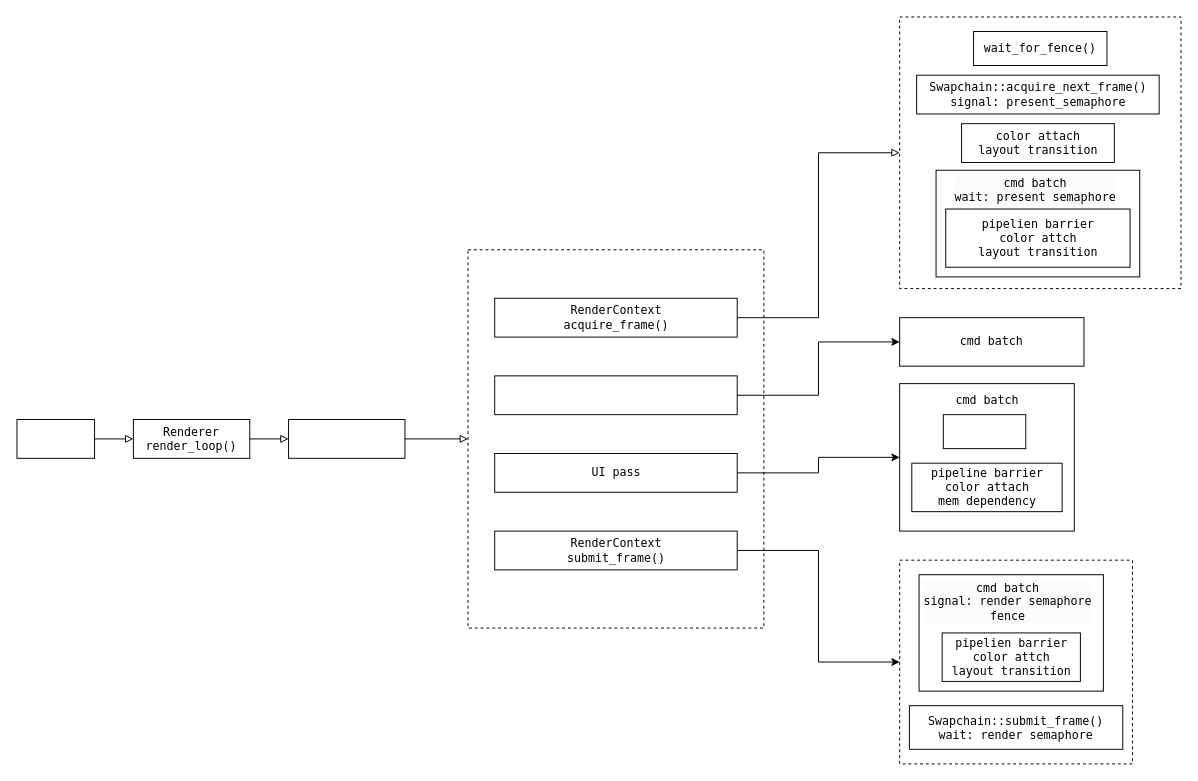
Some shapes in this 1198 by 781 pixel diagram are drawn without their labels. The shapes that lost their labels are listed below. From the top down, each one's centre as x and y in pixels, then its label:
At point 615,395: "main pass".
At point 55,438: "main()".
At point 346,438: "WindowSystem render_loop()".
At point 984,431: "draw cmd".
